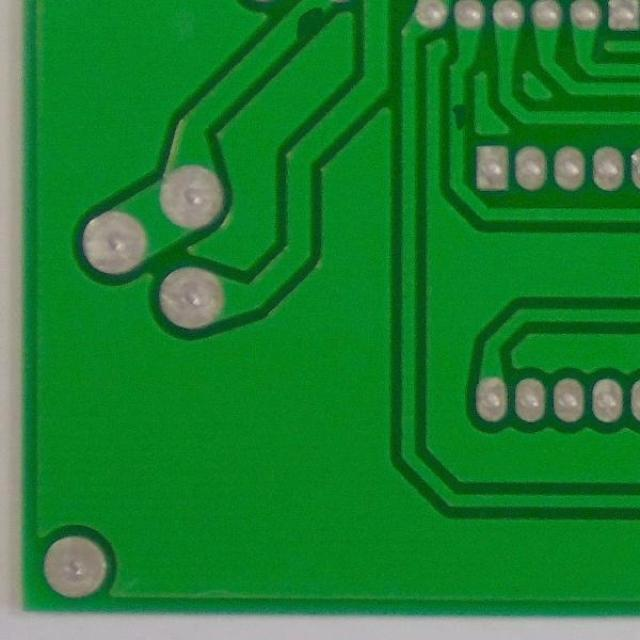MouseBite: (288, 3, 335, 42), (444, 96, 472, 137)
